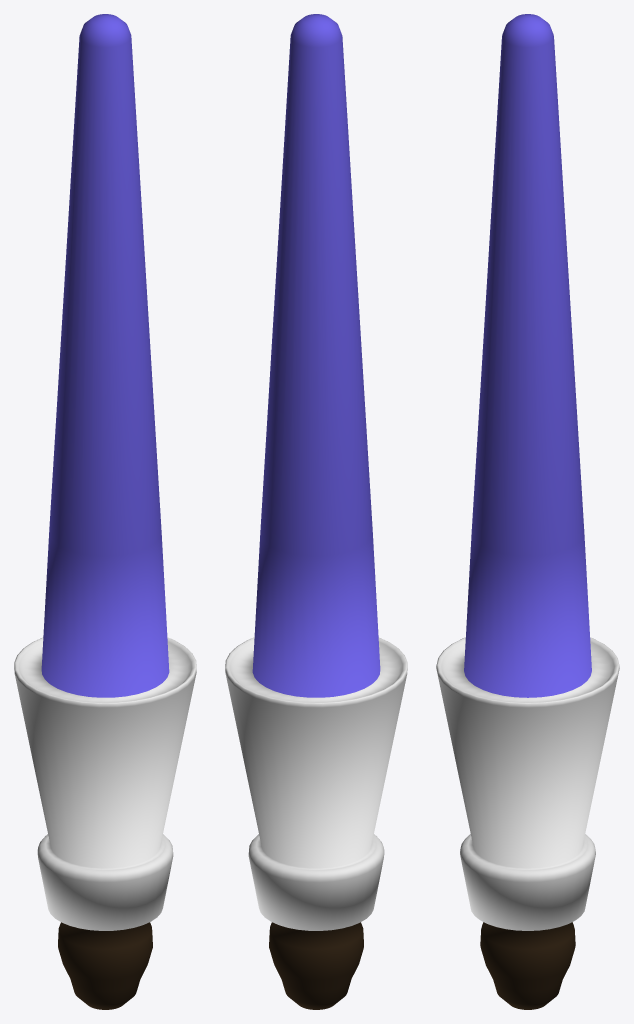
The model's file is Brush.glb.
3 renders of one model, left to right at view 1: azimuth 30°, elevation 25°; view 2: azimuth 150°, elevation 25°; view 3: azimuth 270°, elevation 25°, orthographic.
Visible parts, largest first — view 1: Cylinder; view 2: Cylinder; view 3: Cylinder.
Part boxes in pixels (x1=…): Cylinder: x1=14, y1=14, x2=196, y2=1009; Cylinder: x1=225, y1=14, x2=407, y2=1009; Cylinder: x1=436, y1=14, x2=619, y2=1009.
Size of the model in its own units: 2.36 by 14.07 by 2.36.
